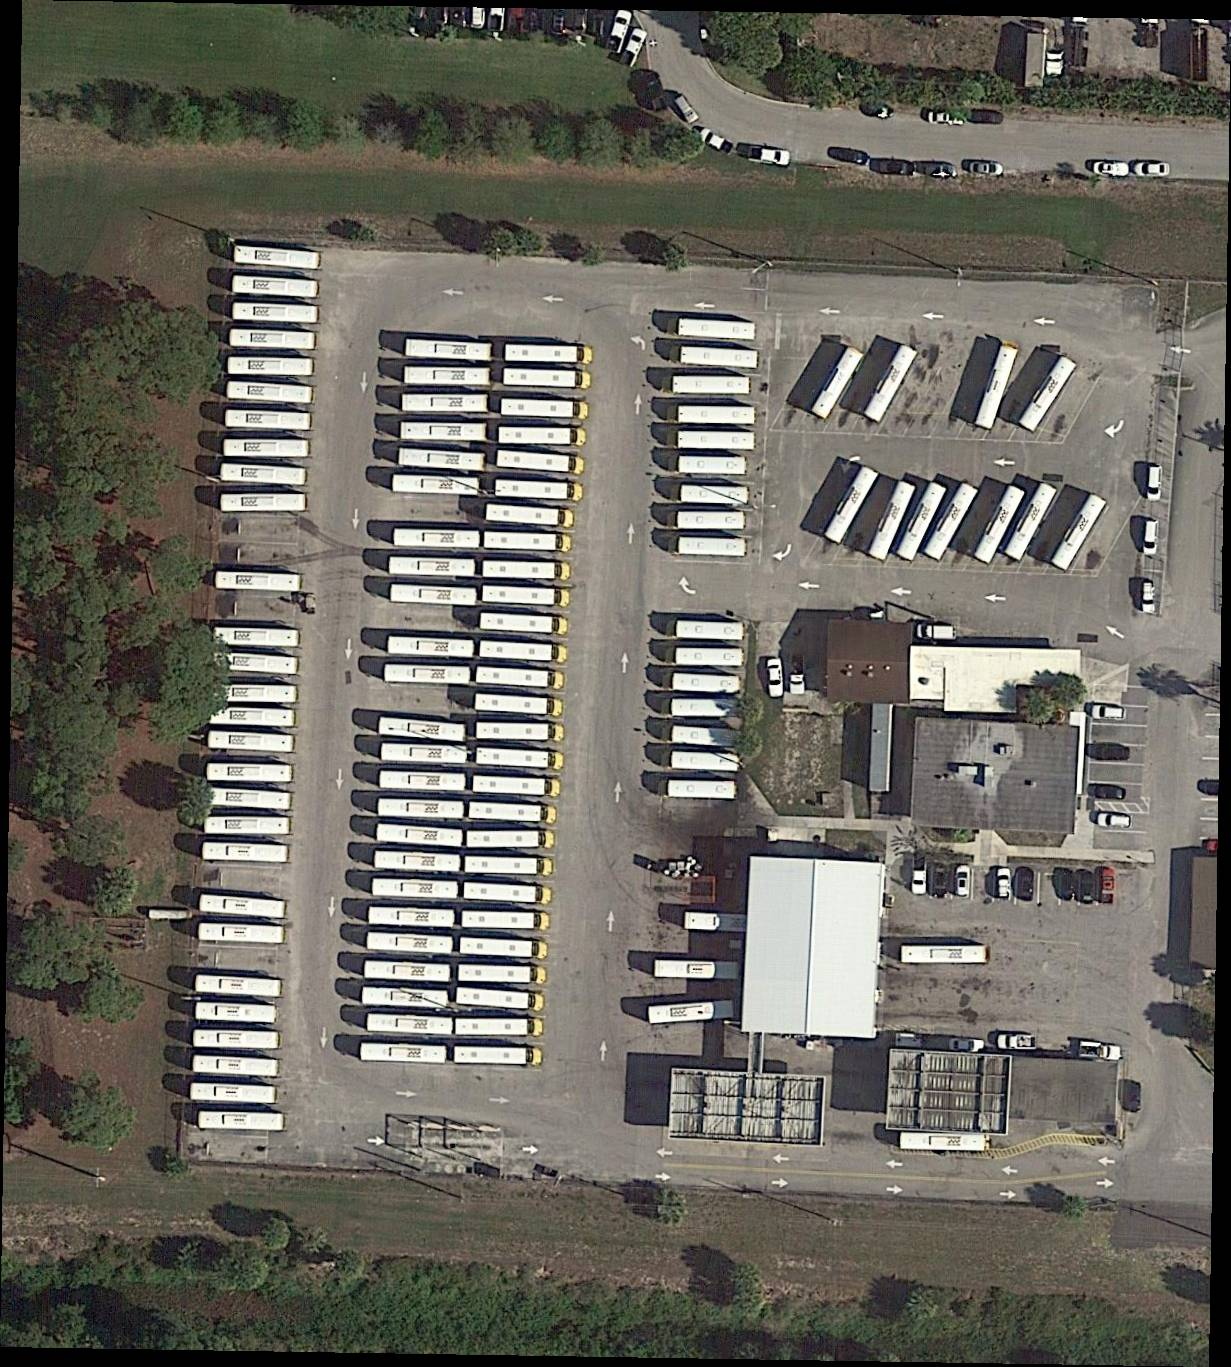large vehicle: (1018, 354, 1078, 433), (823, 466, 880, 545), (923, 481, 979, 562), (1052, 492, 1107, 572), (864, 343, 920, 424), (1004, 481, 1058, 563), (896, 480, 947, 563), (974, 485, 1025, 567), (973, 341, 1019, 430), (812, 344, 864, 419), (869, 480, 916, 562), (198, 894, 290, 920), (233, 245, 324, 271), (377, 716, 467, 742), (648, 1000, 736, 1026), (497, 449, 585, 475), (219, 463, 310, 488), (227, 381, 317, 406), (232, 276, 322, 300), (195, 974, 285, 999), (192, 1055, 283, 1080), (213, 652, 302, 677), (206, 787, 295, 812), (456, 987, 545, 1012), (486, 504, 575, 529), (463, 881, 553, 906), (476, 666, 564, 691), (207, 730, 298, 754), (209, 705, 298, 729), (225, 409, 314, 432), (475, 694, 564, 717), (375, 823, 463, 847), (398, 448, 486, 472), (480, 640, 567, 664), (202, 842, 292, 865), (192, 1029, 283, 1051), (190, 1083, 280, 1106), (392, 474, 481, 496), (229, 329, 318, 352), (233, 303, 322, 325), (198, 923, 288, 945), (460, 937, 549, 960), (469, 802, 558, 824), (681, 346, 760, 371), (361, 987, 449, 1010), (366, 931, 454, 954), (360, 1043, 448, 1065), (501, 398, 589, 420), (495, 480, 583, 502), (481, 613, 569, 635), (405, 338, 492, 361), (197, 1110, 289, 1132), (386, 637, 476, 658), (213, 627, 303, 648), (206, 762, 296, 784), (195, 1002, 280, 1025), (389, 584, 478, 606), (212, 684, 301, 705), (482, 586, 572, 607), (472, 776, 561, 797), (364, 961, 452, 982), (379, 770, 467, 791), (366, 1013, 454, 1034), (504, 368, 592, 390), (484, 532, 572, 553), (476, 748, 564, 770), (678, 318, 757, 342), (372, 878, 459, 899), (373, 852, 462, 872), (204, 817, 293, 837), (454, 1046, 543, 1067), (505, 344, 594, 365), (462, 910, 551, 930), (465, 856, 554, 876), (389, 557, 476, 577), (221, 493, 309, 513), (400, 422, 488, 442), (476, 722, 564, 742), (368, 907, 455, 928), (381, 743, 468, 764), (384, 664, 471, 684), (654, 960, 740, 980), (404, 366, 491, 386), (227, 357, 318, 376), (378, 799, 463, 819), (215, 572, 305, 591), (223, 439, 313, 458), (400, 394, 490, 413), (457, 966, 547, 985), (901, 945, 990, 964), (482, 561, 572, 580), (467, 830, 556, 849), (393, 529, 481, 548), (499, 428, 587, 447), (670, 724, 741, 747), (899, 1133, 989, 1151), (456, 1019, 544, 1037), (673, 376, 752, 395), (671, 751, 741, 772), (678, 536, 749, 557), (678, 431, 757, 450), (673, 673, 741, 695), (678, 406, 758, 424), (668, 780, 738, 800), (677, 620, 746, 640), (671, 698, 741, 717), (681, 485, 751, 504), (676, 648, 744, 667), (677, 512, 747, 530), (678, 457, 749, 475)
small vehicle: (606, 10, 632, 53), (620, 29, 650, 67), (699, 127, 734, 156), (673, 94, 701, 125), (746, 147, 791, 166), (1080, 1043, 1122, 1061), (768, 658, 785, 698), (828, 146, 869, 164), (1094, 743, 1131, 762), (1147, 466, 1163, 504), (1078, 872, 1097, 905), (1144, 521, 1161, 558), (917, 624, 957, 639), (1092, 704, 1128, 721), (1058, 871, 1077, 901), (1099, 871, 1116, 905), (1016, 869, 1034, 901), (1097, 814, 1134, 829), (1094, 162, 1131, 177), (928, 110, 965, 126), (913, 860, 928, 895), (997, 1034, 1035, 1049), (954, 865, 971, 897), (1094, 785, 1126, 802), (1136, 162, 1172, 176), (873, 160, 911, 173), (1142, 584, 1157, 615), (995, 869, 1011, 898), (970, 162, 1003, 175), (924, 163, 958, 176)
